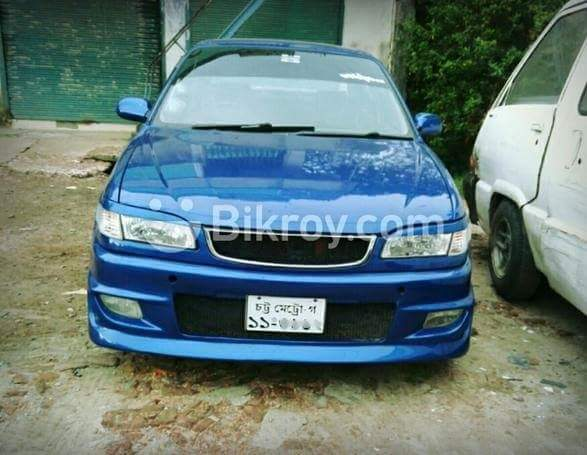registration_plate: (246, 295, 326, 334)
